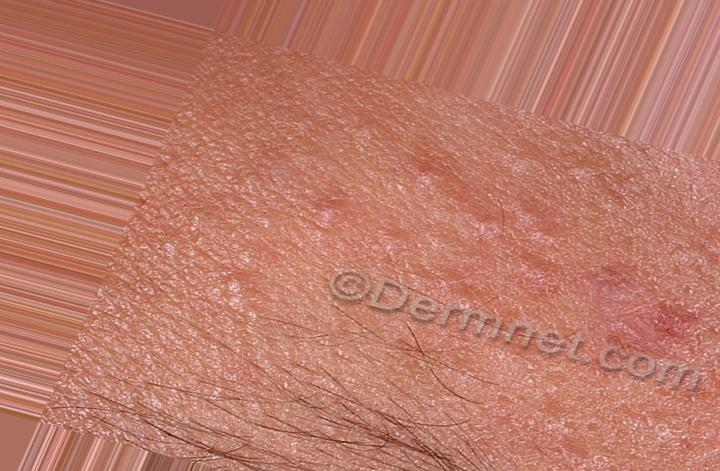Acne: (612, 255, 705, 369), (501, 233, 598, 301), (269, 191, 363, 245), (186, 251, 266, 303), (396, 145, 460, 197)
